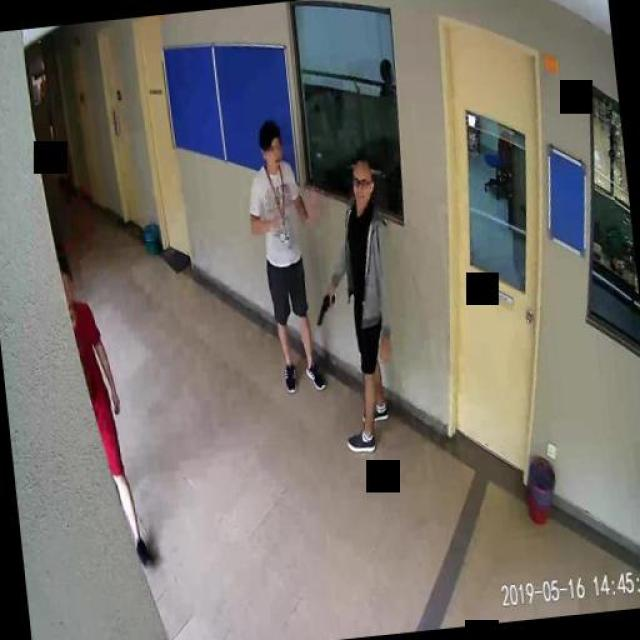gun: (313, 291, 337, 325)
